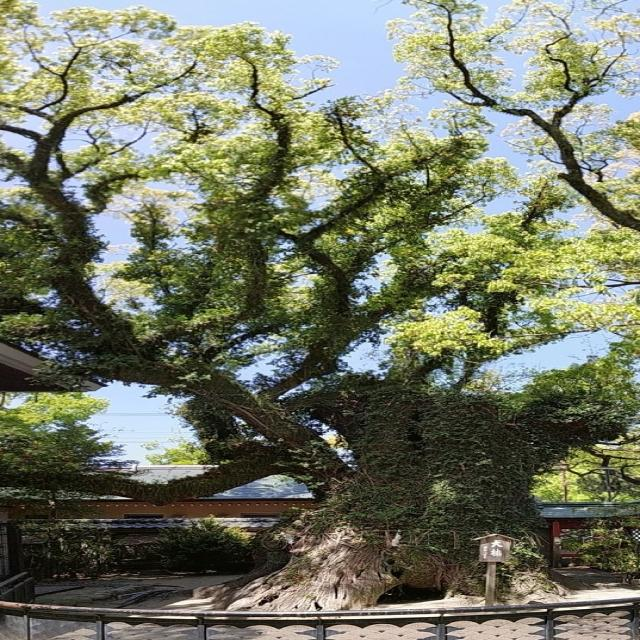camphor: (0, 0, 640, 608)
